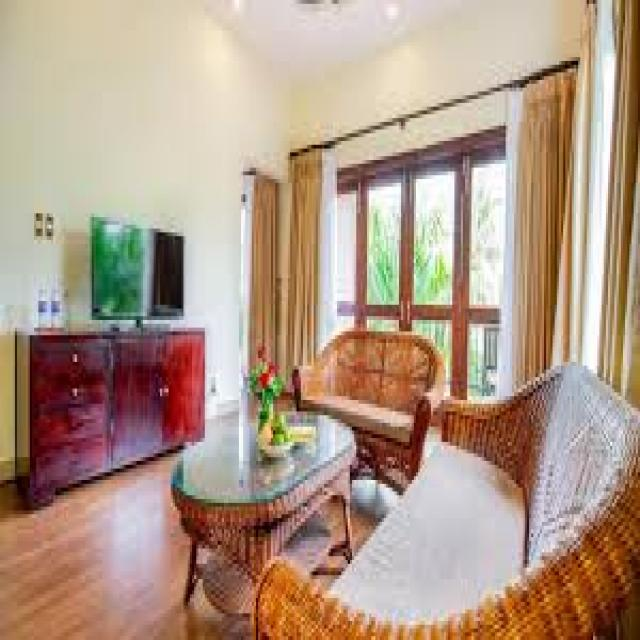Sofa: (352, 360, 640, 640), (290, 327, 438, 456)
Table: (170, 406, 359, 584)
tv: (90, 216, 187, 324)
window: (294, 156, 526, 337)
